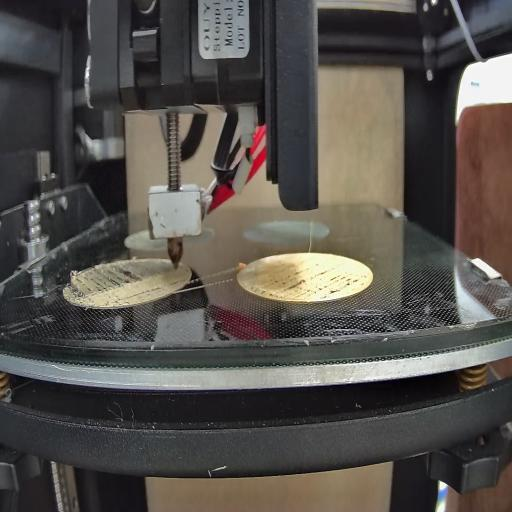under_extrusion: (67, 263, 164, 300), (248, 274, 371, 302), (172, 276, 184, 288)
